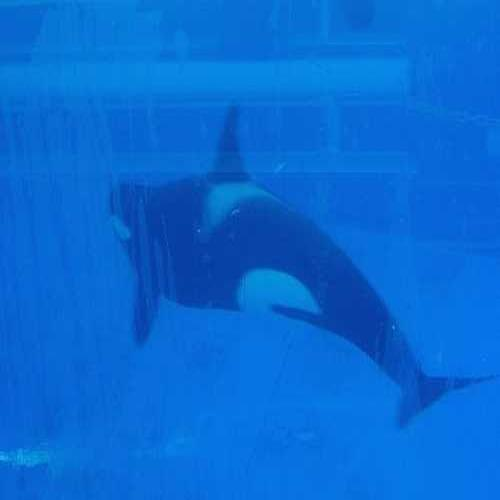killer_whale-endangered: (91, 87, 466, 415)
